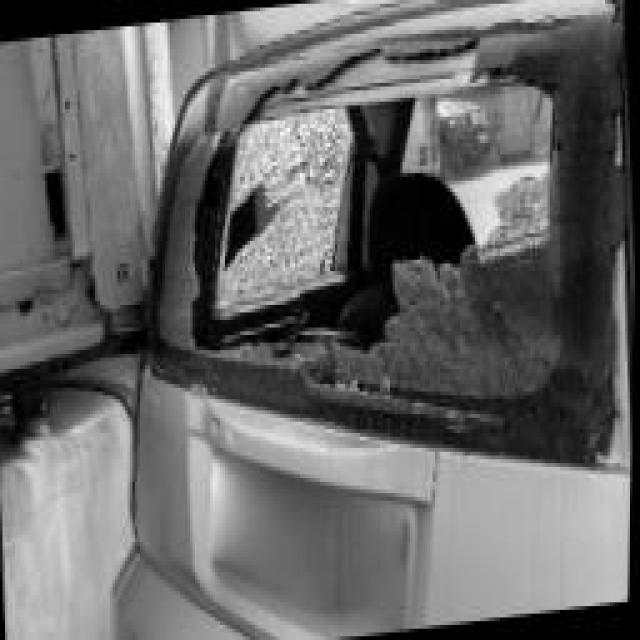Windshield: (130, 0, 640, 376)
